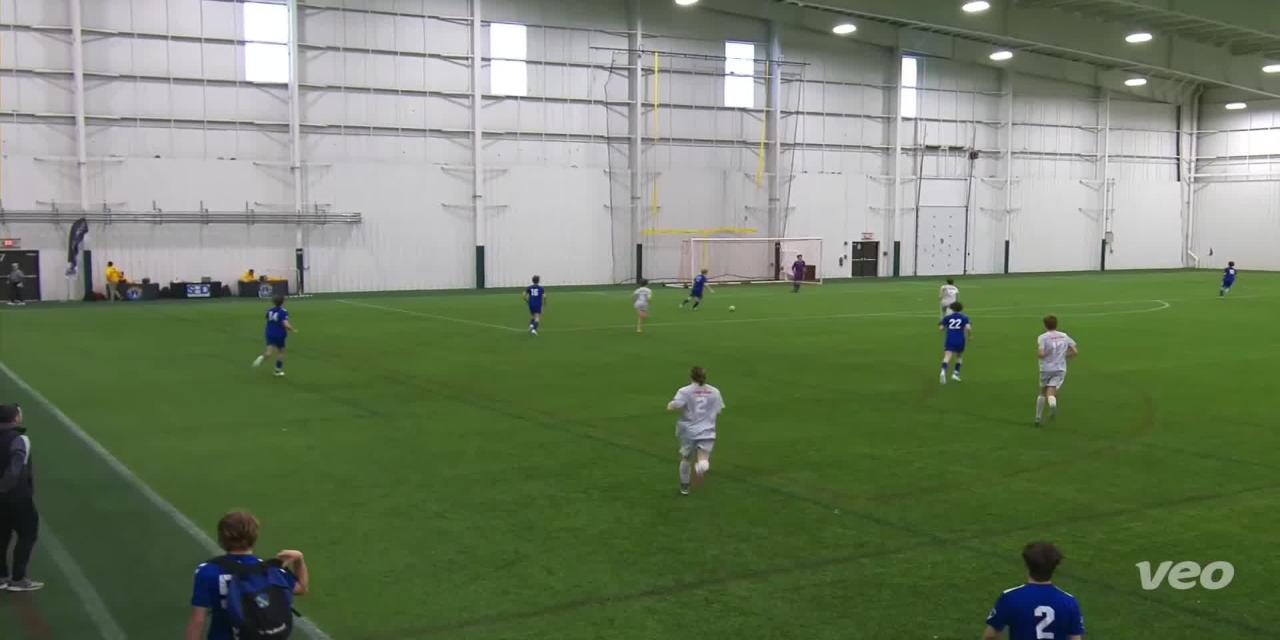goal: (665, 236, 833, 290)
sports ball: (722, 303, 742, 314)
